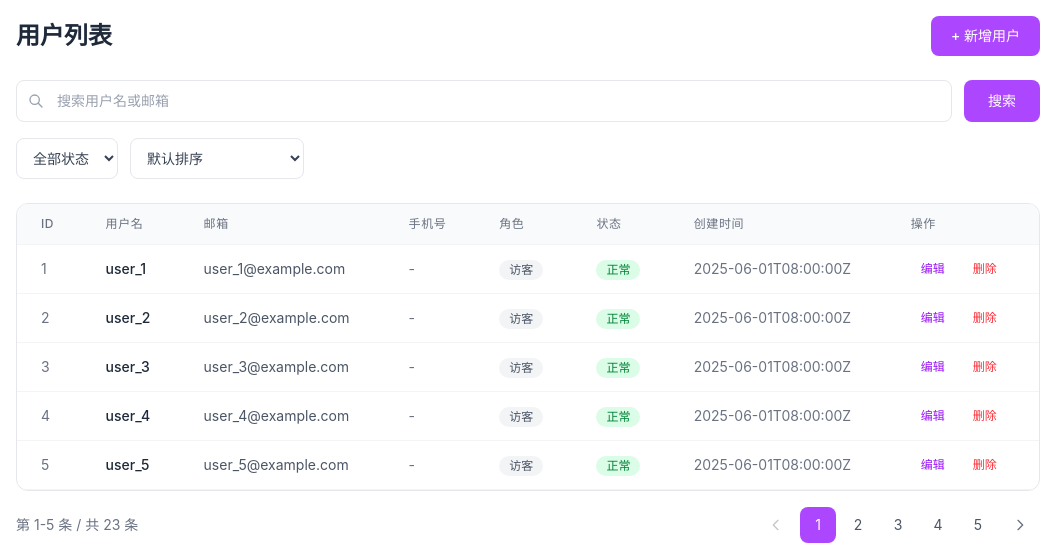
it: UserListPage — 分页逻辑 › 分页信息展示 › 最后一页不足 pageSize 条时展示正确范围
The image size is (1057, 560).
Expected: the text "user_1" is shown, [82,244,180,294]
What coordinates should you click on to do the following:
click the button "5"
I would click on:
 (978, 525)
Its box is [960,507,996,543].
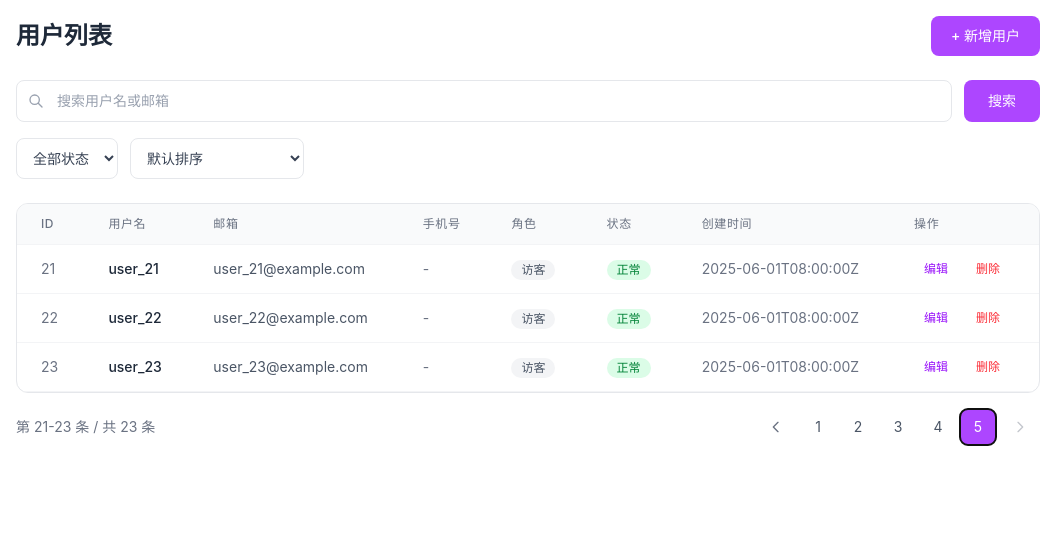
Expected: the text "user_21" is shown, [84,244,189,294]
Expected: the text "第 21-23 条 / 共 23 条" is shown, [16,417,155,437]
